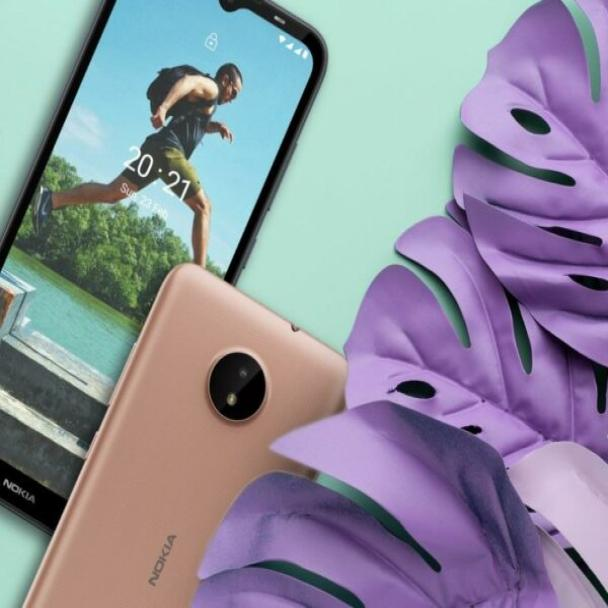Handphone: (20, 256, 357, 608)
